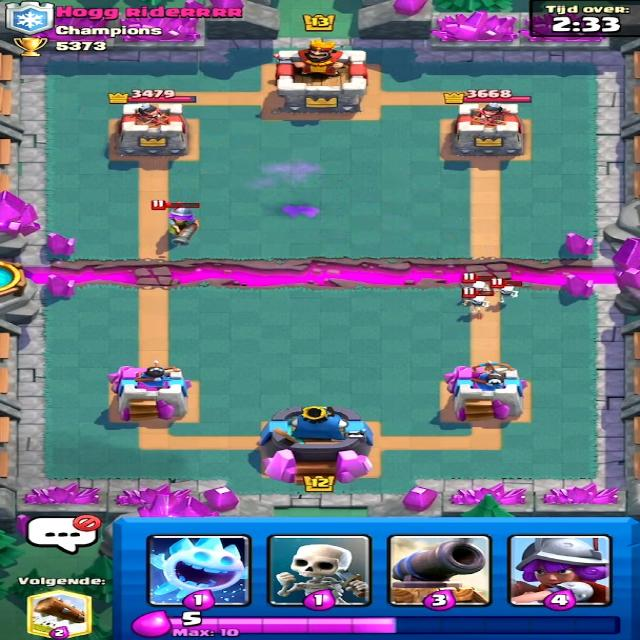Cannon_Card: (391, 536, 495, 606)
Enemy_Musketeer_Troop: (156, 202, 207, 246)
Enemy_Skeleton_Troop: (461, 294, 492, 316), (456, 276, 492, 294), (492, 287, 525, 306)
Ice_Spirit_Card: (154, 536, 238, 608)
Musketeer_Card: (506, 535, 612, 606)
Skeleton_Card: (264, 533, 368, 608)
